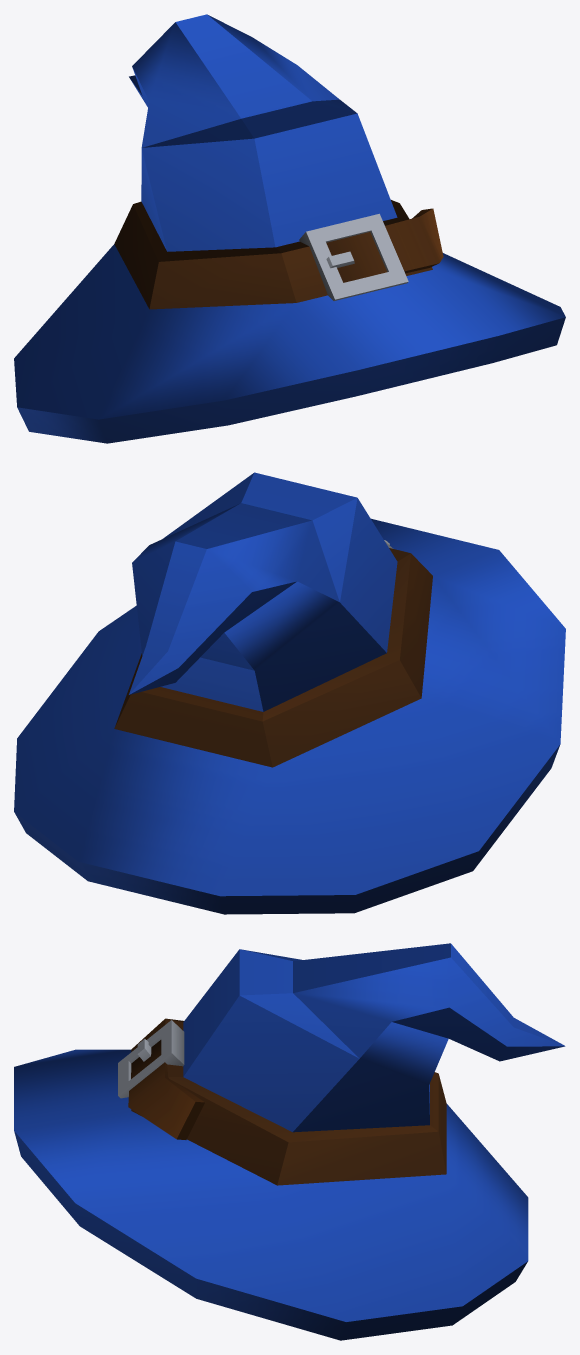
The model's file is pk-polysplit-heroes-magehat-a.glb.
The picture shows the model from 3 angles, top to bottom: view 1: azimuth 30°, elevation 25°; view 2: azimuth 150°, elevation 25°; view 3: azimuth 270°, elevation 25°; orthographic projection. The views are drawn at different scales.
Parts seen in each view (by area): view 1: MageHat_A; view 2: MageHat_A; view 3: MageHat_A.
Part boxes in pixels (box(x1,y1,x2,y2)): MageHat_A: box(14, 14, 565, 443); MageHat_A: box(14, 472, 565, 914); MageHat_A: box(14, 943, 565, 1340).
Bounding box in the file's own units: 0.536 × 0.363 × 0.6026.
Materials: 1 (1 with a texture image).
